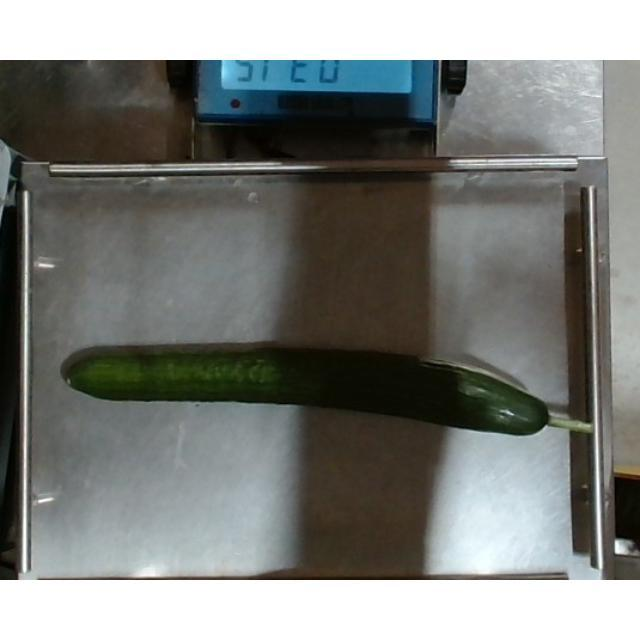cucumber: (58, 338, 598, 442)
